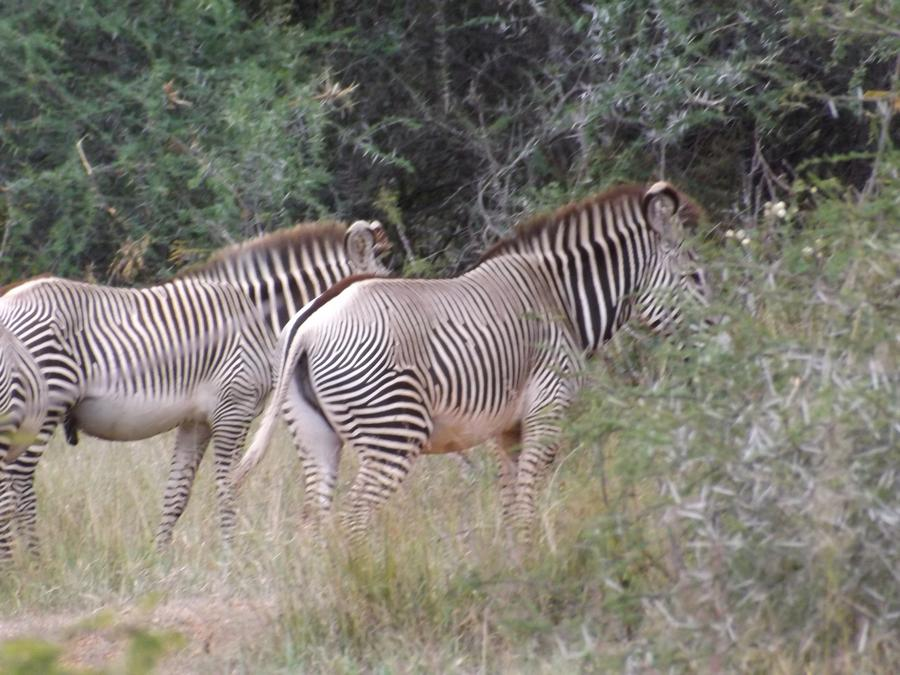zebra_grevys: (4, 254, 253, 428)
